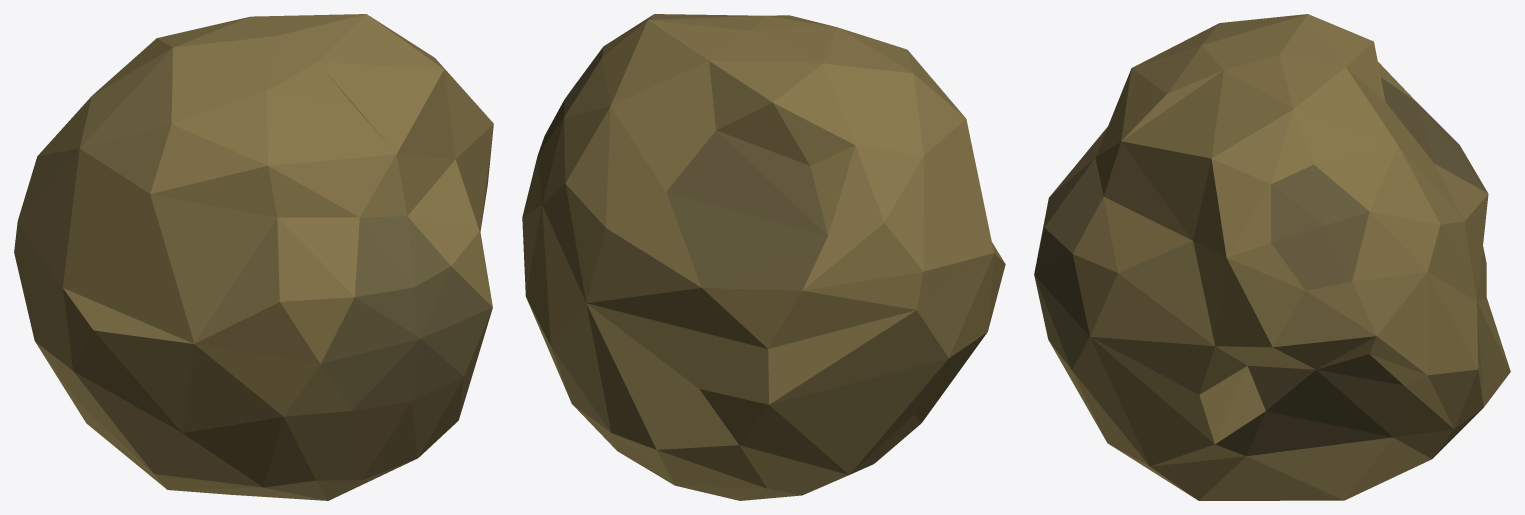
Rendered from ASTROIDS.fbx.
3 renders of one model, left to right at view 1: azimuth 30°, elevation 25°; view 2: azimuth 150°, elevation 25°; view 3: azimuth 270°, elevation 25°, orthographic. The views are drawn at different scales.
Visible parts, largest first — view 1: Icosphere; view 2: Icosphere; view 3: Icosphere.
Boxes of the visible parts, x1,y1,x2,y2 form: Icosphere: (14,14,493,500); Icosphere: (522,14,1005,500); Icosphere: (1034,14,1510,500).
Size of the model in its own units: 212 by 206 by 204.
